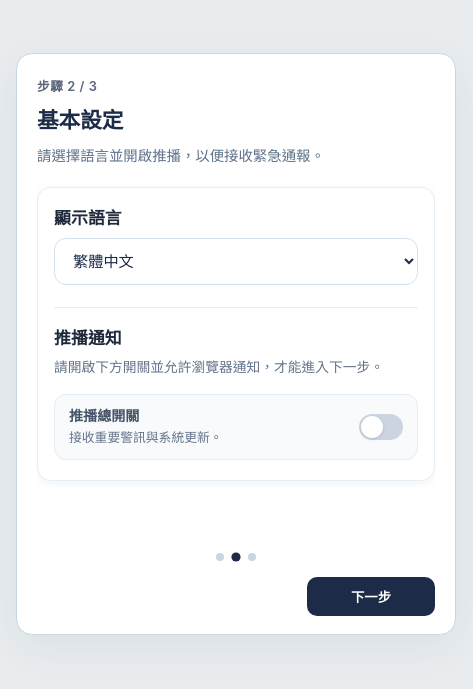
Scenario: FirstLoginWizard push master switch › blocks Next while push is OFF
This screenshot has width=473, height=689.
What coordinates should you click on to do the following:
click the button "下一步"
I would click on:
 (371, 596)
Its box is [307,577,435,616].
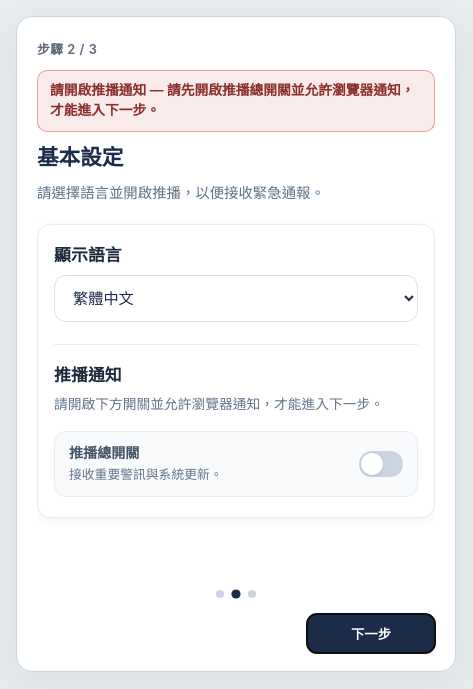
Check: the heading "基本設定" is shown, box [37,144,123,170]
Check: the message shows "推播", box [37,70,435,132]
